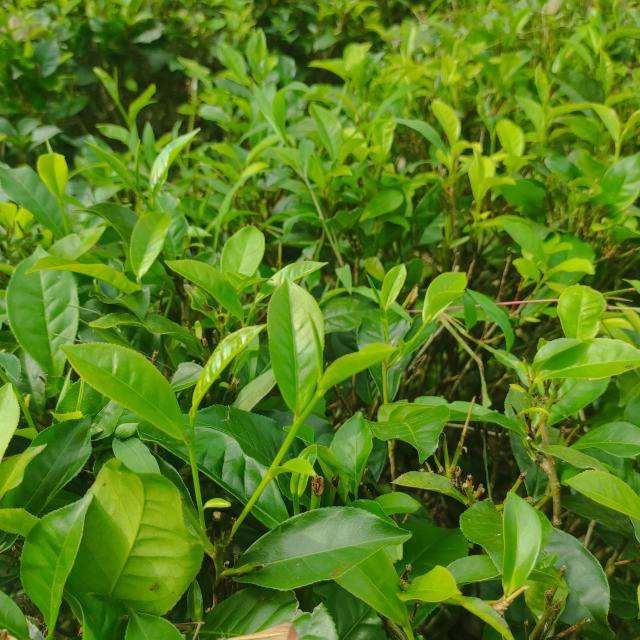unopened_leaf: (302, 303, 328, 391), (364, 268, 389, 315), (131, 134, 148, 193)
